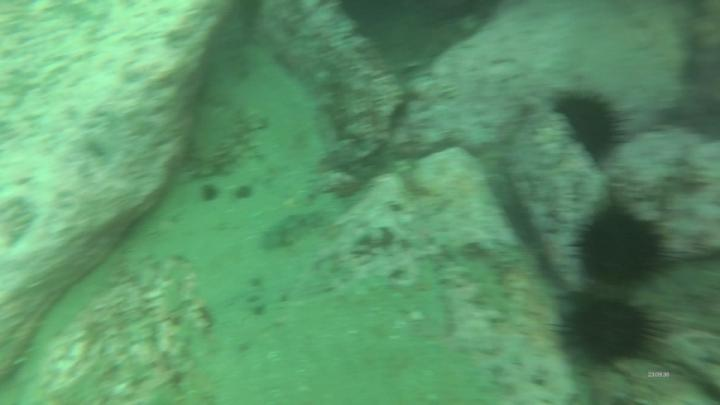echinus: (560, 193, 679, 297), (548, 294, 668, 377), (550, 88, 632, 165)
